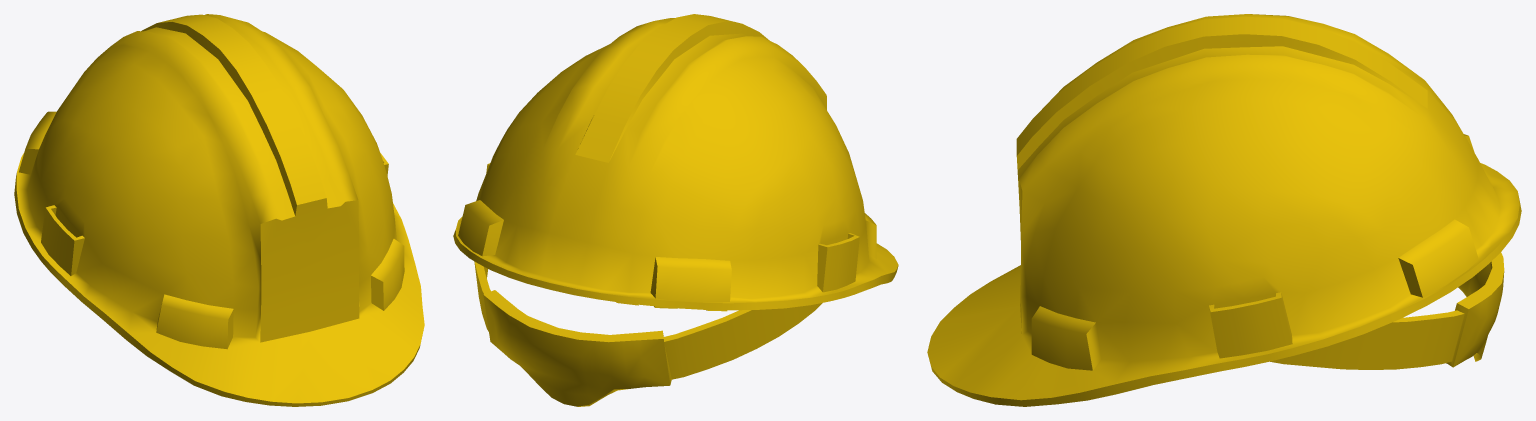
Rendered from kafalik.fbx.
3 views of the same model, side by side, from view 1: azimuth 30°, elevation 25°; view 2: azimuth 150°, elevation 25°; view 3: azimuth 270°, elevation 25° (orthographic). The views are drawn at different scales.
Visible parts, largest first — view 1: SM_HardHat_01b_Internal:Mesh; view 2: SM_HardHat_01b_Internal:Mesh; view 3: SM_HardHat_01b_Internal:Mesh.
Boxes of the visible parts, x1=… form: SM_HardHat_01b_Internal:Mesh: x1=14, y1=14, x2=424, y2=406; SM_HardHat_01b_Internal:Mesh: x1=453, y1=14, x2=898, y2=406; SM_HardHat_01b_Internal:Mesh: x1=927, y1=14, x2=1521, y2=406.
Bounding box in the file's own units: 22.41 × 17.65 × 28.69.
